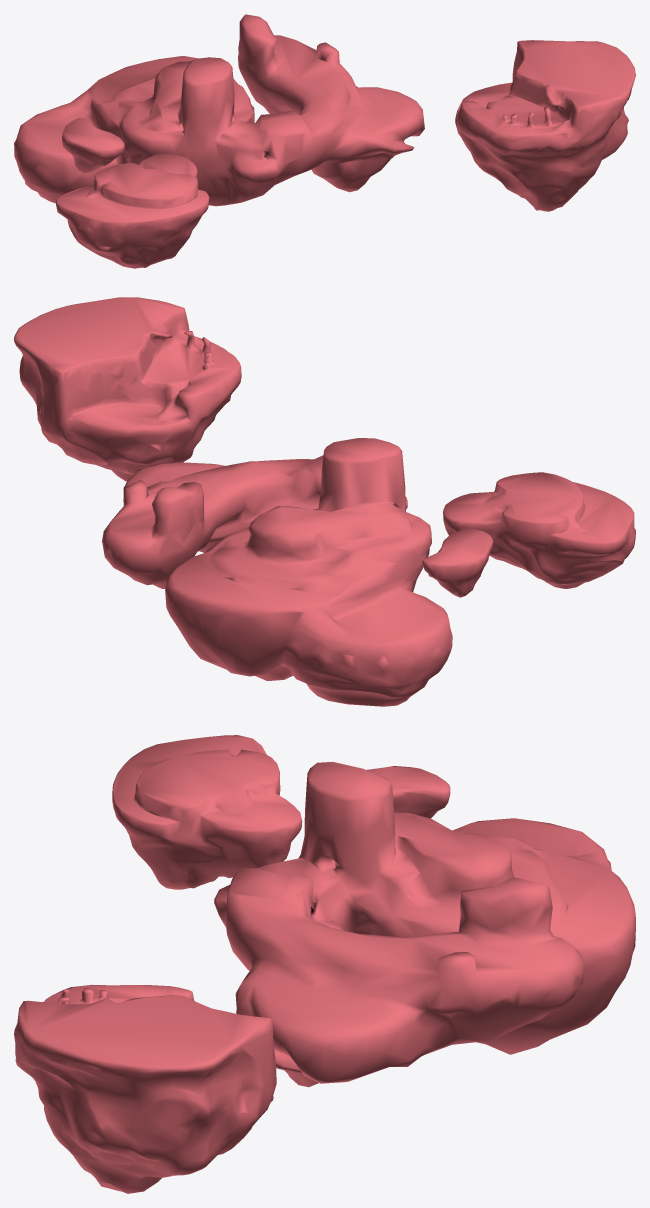
The model's file is TownIslandLOD2.fbx.
The picture shows the model from 3 angles, top to bottom: view 1: azimuth 30°, elevation 25°; view 2: azimuth 150°, elevation 25°; view 3: azimuth 270°, elevation 25°; orthographic projection. The views are drawn at different scales.
Visible parts, largest first — view 1: Cube.020, Cube.023, Cube.022, Cube.021; view 2: Cube.020, Cube.023, Cube.022, Cube.021; view 3: Cube.020, Cube.023, Cube.022, Cube.021.
Boxes of the visible parts, box(x1,y1,x2,y2) form: Cube.020: box(14, 14, 424, 206); Cube.023: box(455, 40, 635, 211); Cube.022: box(56, 153, 209, 268); Cube.021: box(62, 118, 124, 173); Cube.020: box(102, 438, 452, 706); Cube.023: box(14, 297, 241, 481); Cube.022: box(443, 472, 635, 588); Cube.021: box(422, 528, 493, 597); Cube.020: box(214, 761, 635, 1087); Cube.023: box(14, 984, 276, 1193); Cube.022: box(112, 735, 302, 889); Cube.021: box(367, 766, 450, 818).
Size of the model in its own units: 82758 by 24237 by 55693.
